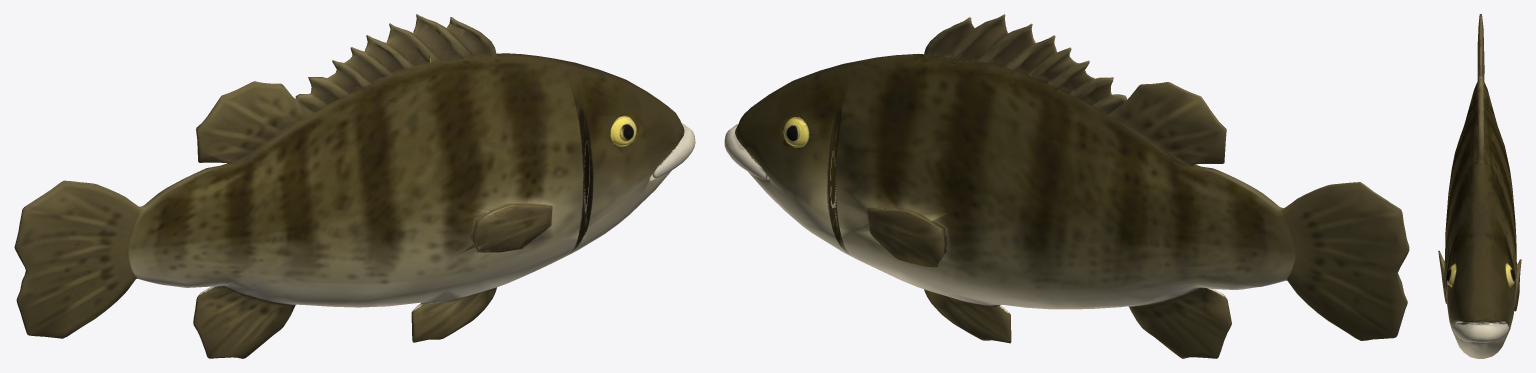
Rendered from smallmouth_bass.glb.
3 renders of one model, left to right at view 1: azimuth 30°, elevation 25°; view 2: azimuth 150°, elevation 25°; view 3: azimuth 270°, elevation 25°, orthographic. The views are drawn at different scales.
Visible parts, largest first — view 1: fish; view 2: fish; view 3: fish.
Boxes of the visible parts, left/top/right/bottom form: fish: left=14, top=14, right=695, bottom=358; fish: left=724, top=14, right=1409, bottom=358; fish: left=1438, top=14, right=1521, bottom=358.
Size of the model in its own units: 0.9999 by 0.4655 by 0.1369.
Materials: 1 (1 with a texture image).
